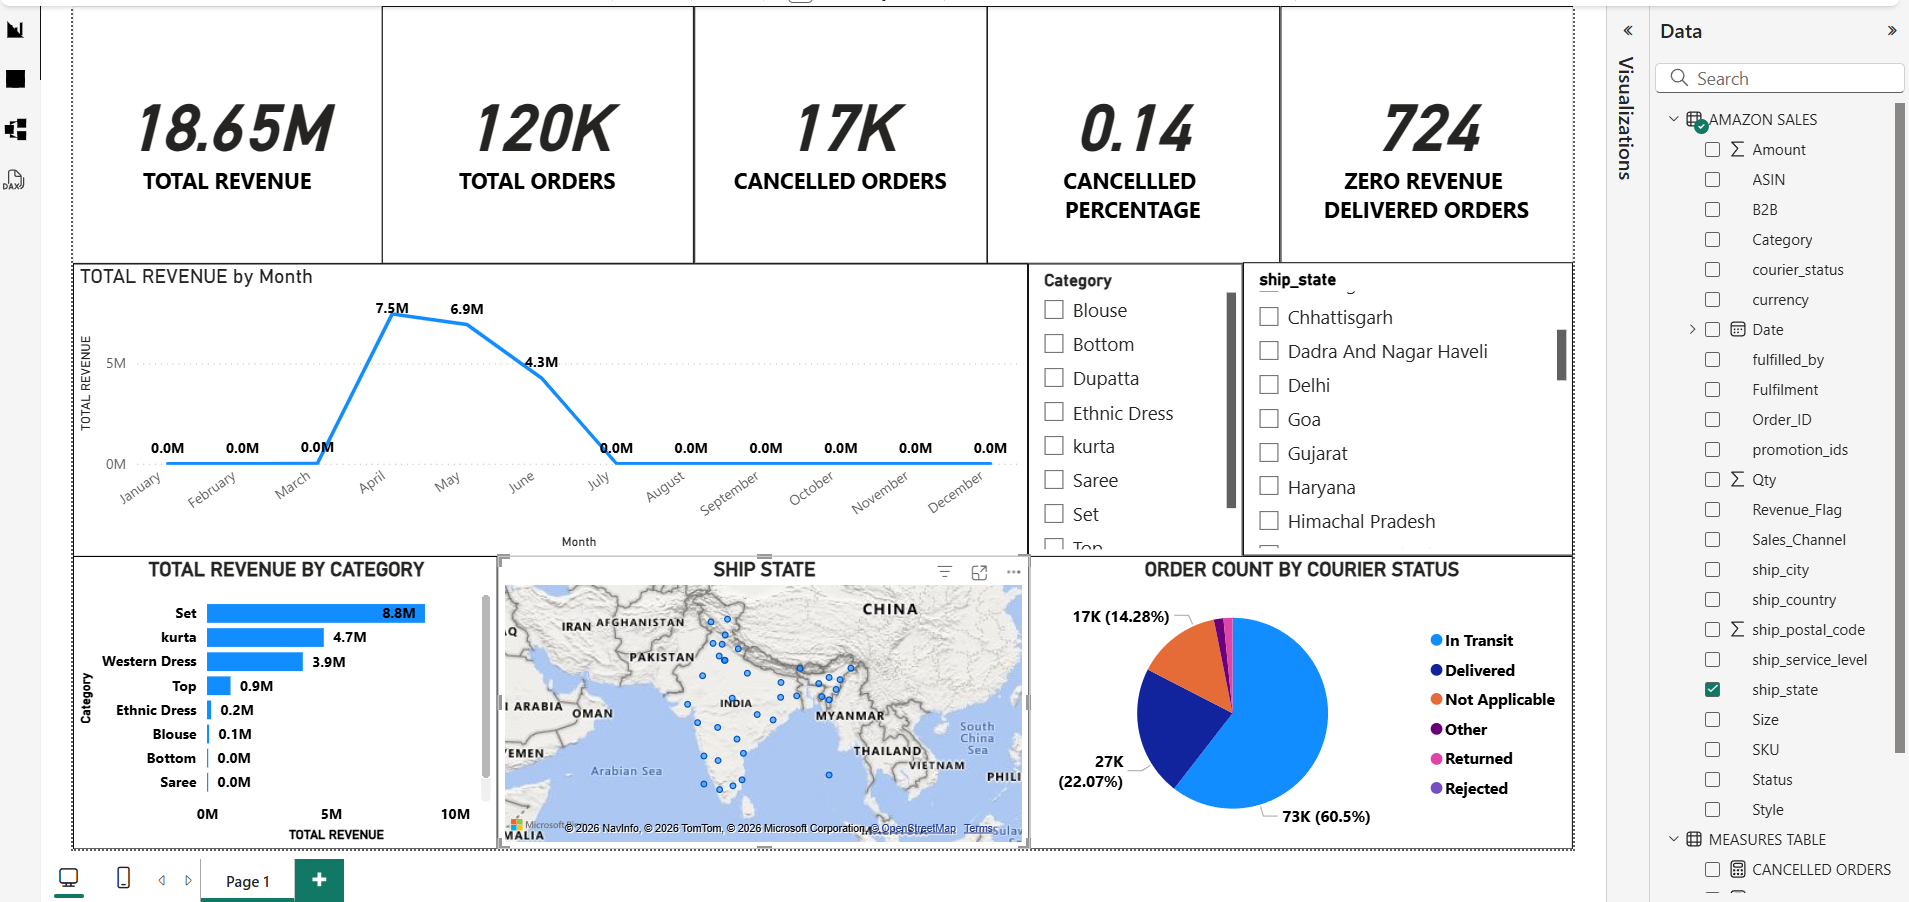

The page's visual inventory and layout, read from the dashboard file:
{"tool":"powerbi","page":{"name":"Page 1","canvas":[1280,720],"ordinal":0},"visuals":[{"type":"card","fields":{"Values":["MEASURES TABLE.TOTAL REVENUE"]},"box":[0,0,264,219.8],"z":0},{"type":"card","fields":{"Values":["MEASURES TABLE.TOTAL ORDERS"]},"box":[264,0,266.3,219.8],"z":1000},{"type":"card","fields":{"Values":["MEASURES TABLE.CANCELLED ORDERS"]},"box":[530.2,0,250,219.8],"z":2000},{"type":"card","fields":{"Values":["MEASURES TABLE.CANCELLLED PERCENTAGE"]},"box":[780.2,0,250,219.8],"z":3000},{"type":"card","fields":{"Values":["MEASURES TABLE.ZERO REVENUE DELIVERED ORDERS"]},"box":[1030.2,0,250,219.8],"z":4000},{"type":"barChart","title":"TOTAL REVENUE BY CATEGORY","fields":{"Category":["AMAZON SALES.Category"],"Y":["MEASURES TABLE.TOTAL REVENUE"]},"box":[0,469.8,362.8,250],"z":5000},{"type":"map","title":"SHIP STATE","fields":{"Category":["AMAZON SALES.ship_state"]},"box":[362.8,469.8,453.5,250],"z":6000},{"type":"pieChart","title":"ORDER COUNT BY COURIER STATUS","fields":{"Y":["MEASURES TABLE.ORDER COUNT"],"Category":["AMAZON SALES.courier_status"]},"box":[816,470,464,250],"z":7000},{"type":"slicer","fields":{"Values":["AMAZON SALES.Category"]},"box":[815.3,219.8,183.6,250],"z":8000},{"type":"slicer","fields":{"Values":["AMAZON SALES.ship_state"]},"box":[998.8,218.6,281.4,250],"z":9000},{"type":"lineChart","fields":{"Category":["AMAZON SALES.Date.Variation.Date Hierarchy.Month"],"Y":["MEASURES TABLE.TOTAL REVENUE"]},"box":[0,220,815.1,250.1],"z":10000}]}

Visuals, with their boxes in screenshot pixels (x1, y1, x2, y2):
card - MEASURES TABLE.TOTAL REVENUE: (x1=50, y1=0, x2=364, y2=256)
card - MEASURES TABLE.TOTAL ORDERS: (x1=364, y1=0, x2=680, y2=256)
card - MEASURES TABLE.CANCELLED ORDERS: (x1=680, y1=0, x2=977, y2=256)
card - MEASURES TABLE.CANCELLLED PERCENTAGE: (x1=977, y1=0, x2=1274, y2=256)
card - MEASURES TABLE.ZERO REVENUE DELIVERED ORDERS: (x1=1274, y1=0, x2=1572, y2=256)
"TOTAL REVENUE BY CATEGORY" barChart: (x1=50, y1=554, x2=481, y2=851)
"SHIP STATE" map: (x1=481, y1=554, x2=1020, y2=851)
"ORDER COUNT BY COURIER STATUS" pieChart: (x1=1020, y1=554, x2=1571, y2=851)
slicer - AMAZON SALES.Category: (x1=1019, y1=256, x2=1237, y2=554)
slicer - AMAZON SALES.ship_state: (x1=1237, y1=255, x2=1572, y2=552)
lineChart - AMAZON SALES.Date.Variation.Date Hierarchy.Month x MEASURES TABLE.TOTAL REVENUE: (x1=50, y1=257, x2=1019, y2=554)
